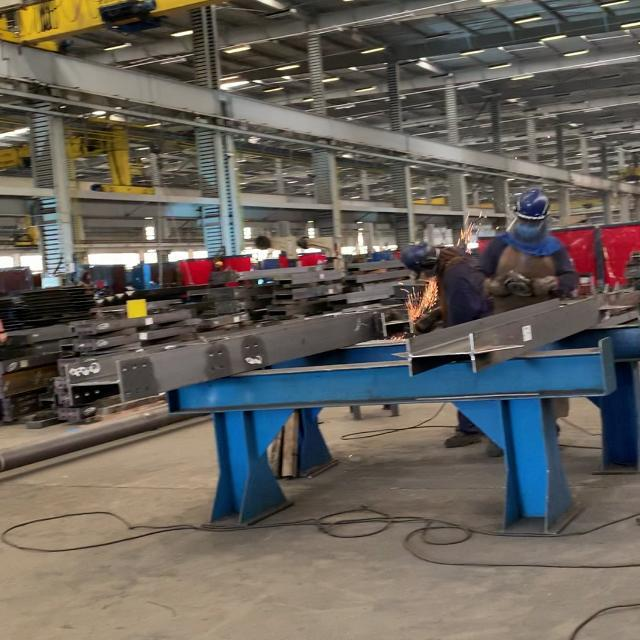eye-glass: (508, 219, 548, 244), (399, 268, 436, 285)
face-shield: (409, 308, 440, 334), (534, 274, 556, 298), (482, 276, 504, 295)
glove: (514, 189, 551, 219), (400, 242, 430, 262)
mask: (398, 244, 481, 456), (459, 185, 579, 300)
safety-shoe: (445, 430, 482, 448)
